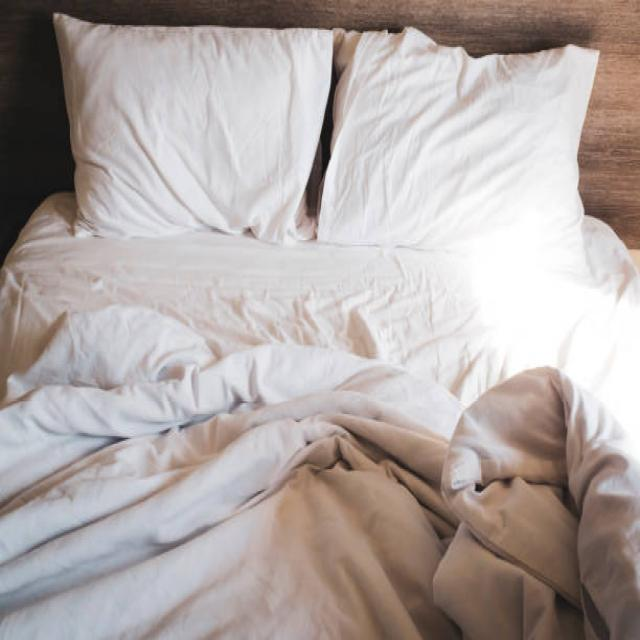bed: (7, 14, 640, 640)
